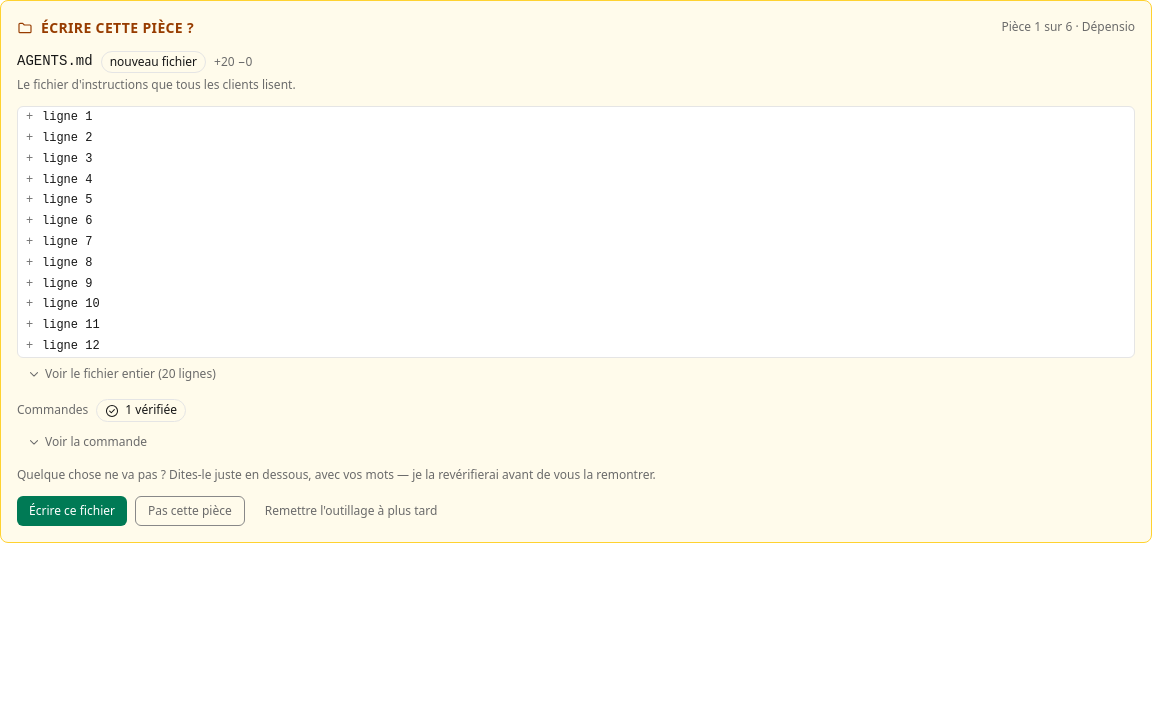
Test: la carte d'une pièce d'outillage › ④ un refus de l'API se lit sur la carte
Step 1. Click the button "Écrire ce fichier" → (72, 511), box 17,496 -> 127,526
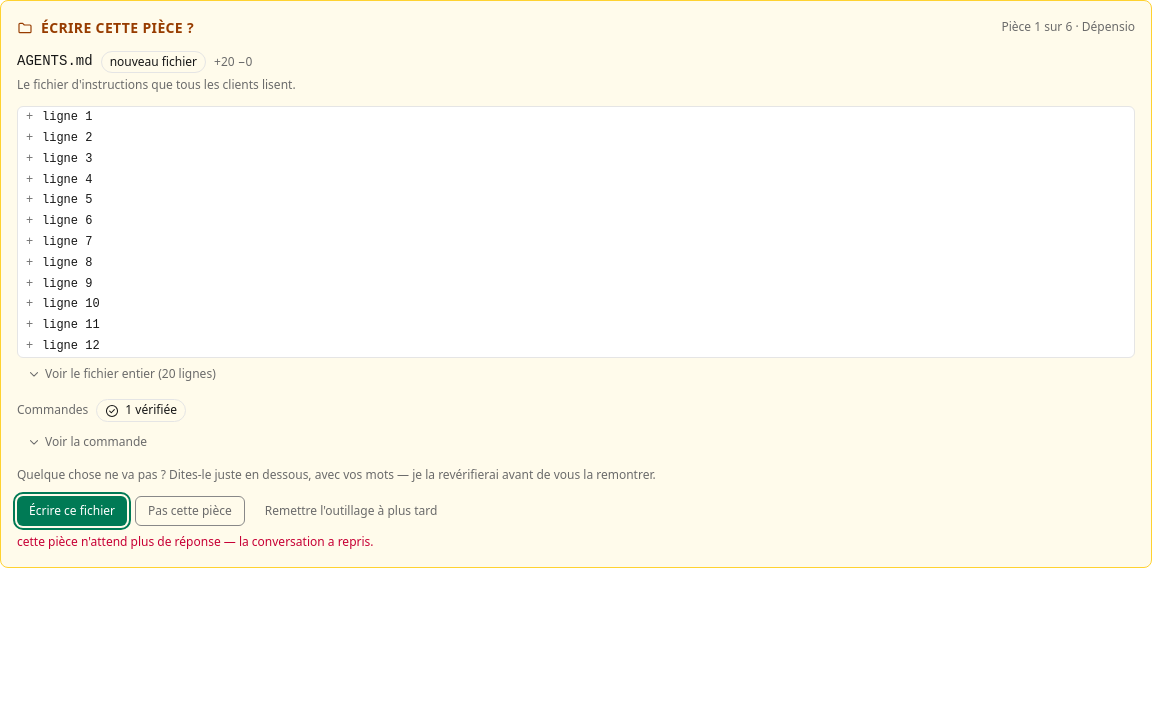
Check: the message shows "cette pièce n'attend plus de réponse", box 17,533 -> 374,550
